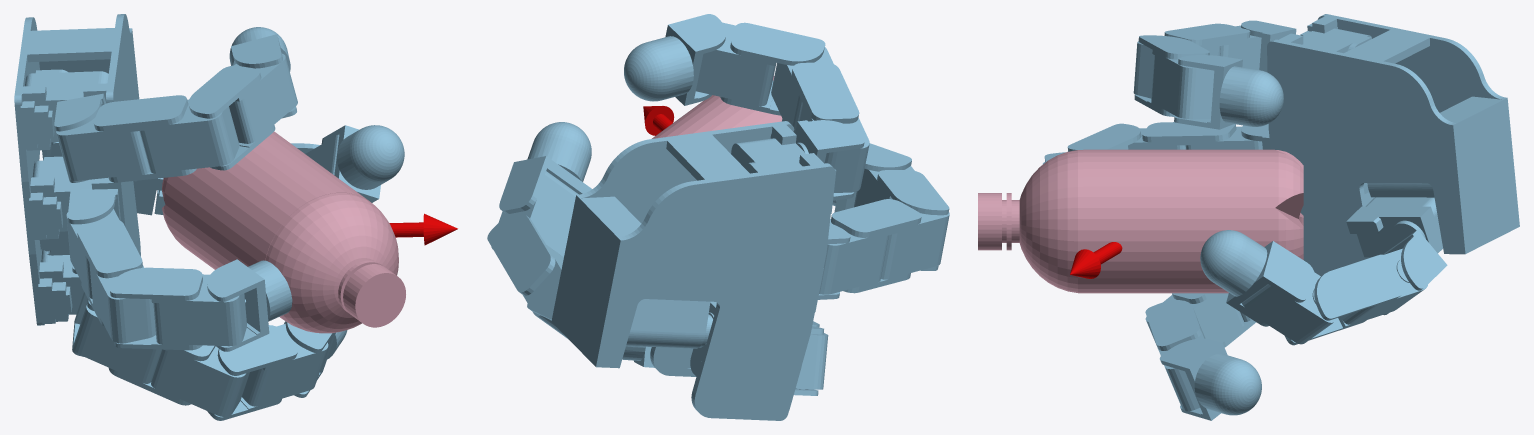
The picture shows the model from 3 angles, left to right: view 1: azimuth 30°, elevation 25°; view 2: azimuth 150°, elevation 25°; view 3: azimuth 270°, elevation 25°; orthographic projection. The views are drawn at different scales.
Visible parts, largest first — view 1: world, water_bottle.stl; view 2: world, water_bottle.stl; view 3: world, water_bottle.stl.
Part boxes in pixels (x1,y1,x2,y2): world: (14,14,457,420); water_bottle.stl: (162,131,405,333); world: (487,14,949,420); water_bottle.stl: (652,76,782,138); world: (1042,14,1519,420); water_bottle.stl: (978,149,1303,293).
Bounding box in the file's own units: 0.1658 × 0.158 × 0.2271.
